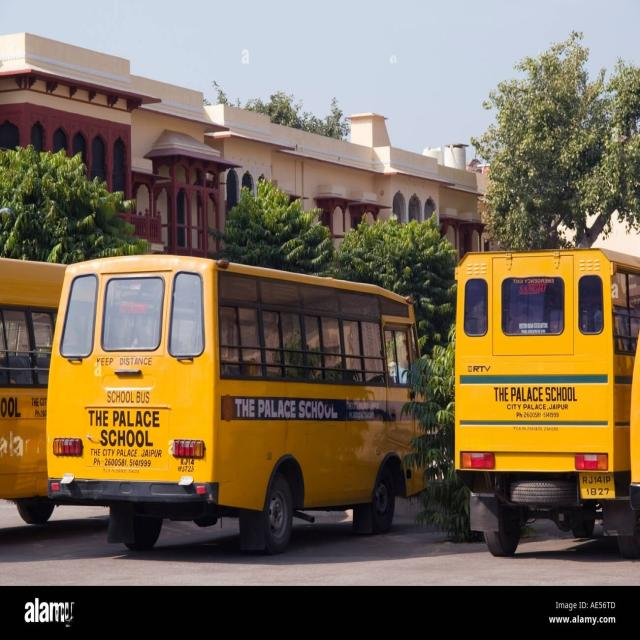bus: (46, 256, 422, 552), (455, 249, 640, 555)
